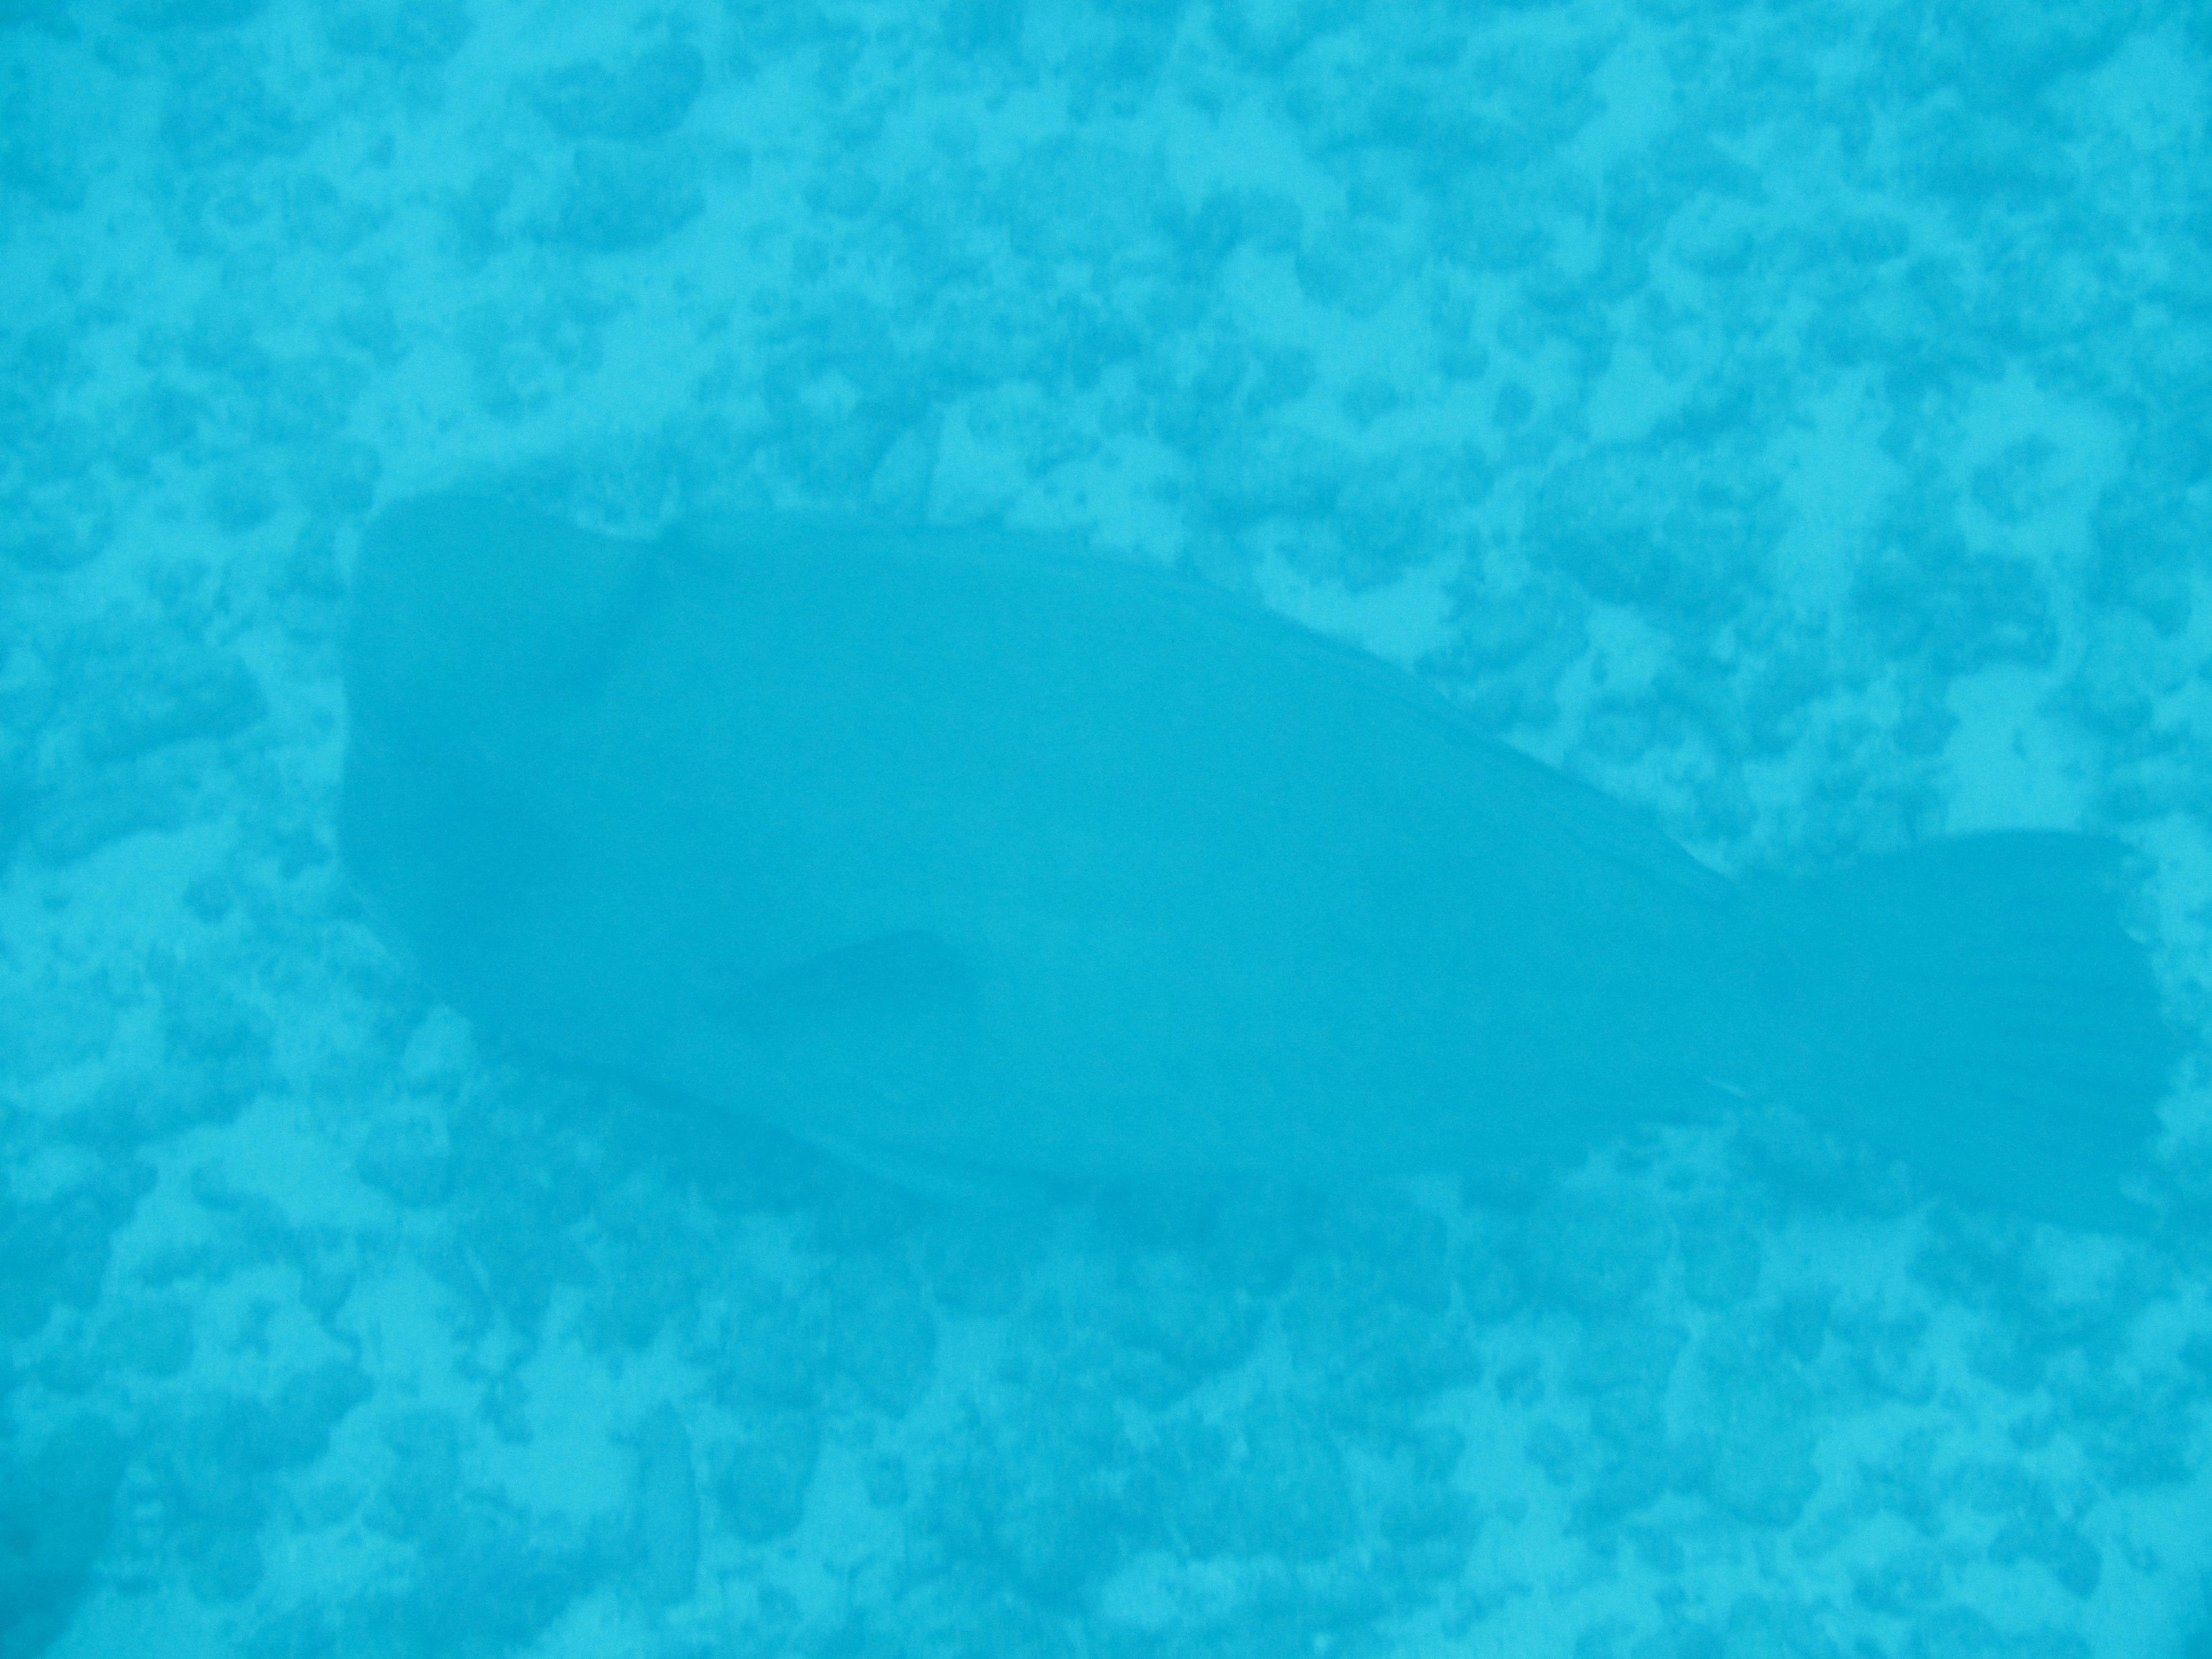Fish: (272, 364, 2193, 1269)
